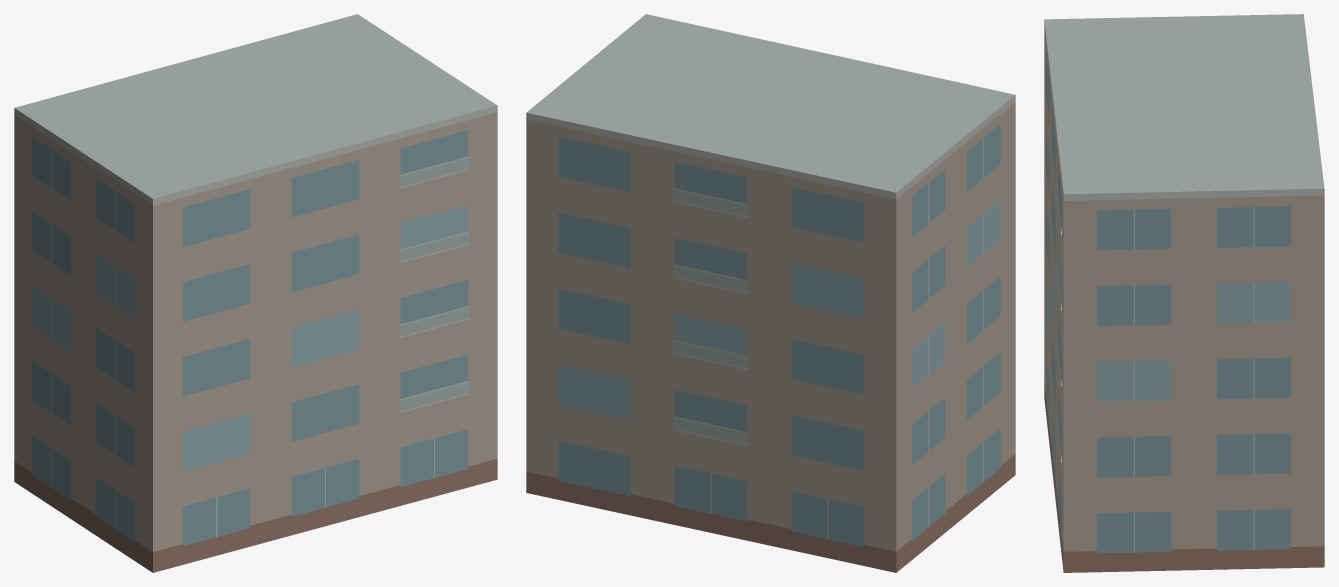
File: survey-upis-32848625.glb
3 views of the same model, side by side, from view 1: azimuth 30°, elevation 25°; view 2: azimuth 150°, elevation 25°; view 3: azimuth 270°, elevation 25° (orthographic).
Parts seen in each view (by area): view 1: survey-upis-32848625.tmp; view 2: survey-upis-32848625.tmp; view 3: survey-upis-32848625.tmp.
Part boxes in pixels (left/top/right/bottom): survey-upis-32848625.tmp: left=14, top=14, right=497, bottom=572; survey-upis-32848625.tmp: left=526, top=14, right=1015, bottom=572; survey-upis-32848625.tmp: left=1044, top=14, right=1324, bottom=572.
Bounding box in the file's own units: 14 × 13.7 × 9.2.
